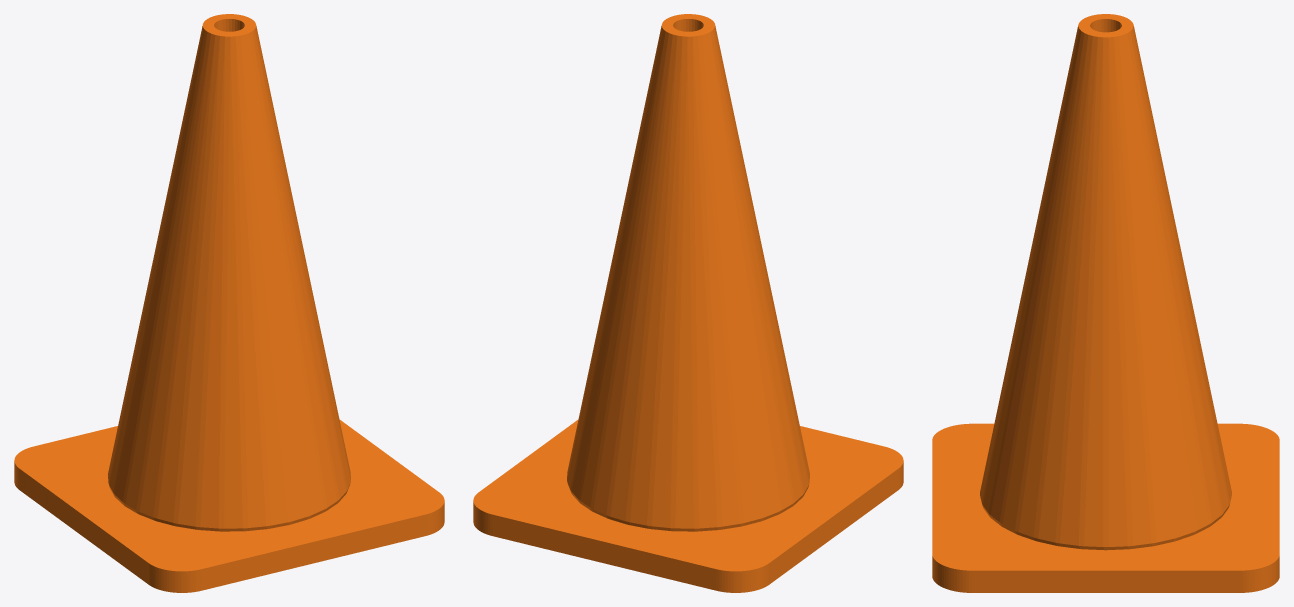
Rendered from traffic_cone.glb.
The picture shows the model from 3 angles, left to right: view 1: azimuth 30°, elevation 25°; view 2: azimuth 150°, elevation 25°; view 3: azimuth 270°, elevation 25°; orthographic projection. The views are drawn at different scales.
Visible parts, largest first — view 1: Cone; view 2: Cone; view 3: Cone.
Part boxes in pixels (box(x1,y1,x2,y2)): Cone: box(14, 14, 444, 592); Cone: box(473, 14, 903, 592); Cone: box(932, 14, 1279, 592).
Size of the model in its own units: 0.2373 by 0.3721 by 0.2373.
